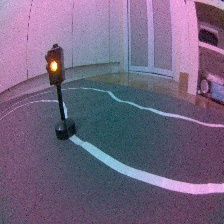amber: (44, 43, 79, 143)
